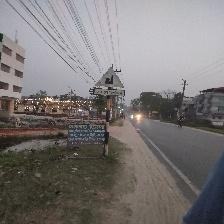Mosque in front: (88, 65, 127, 100)
